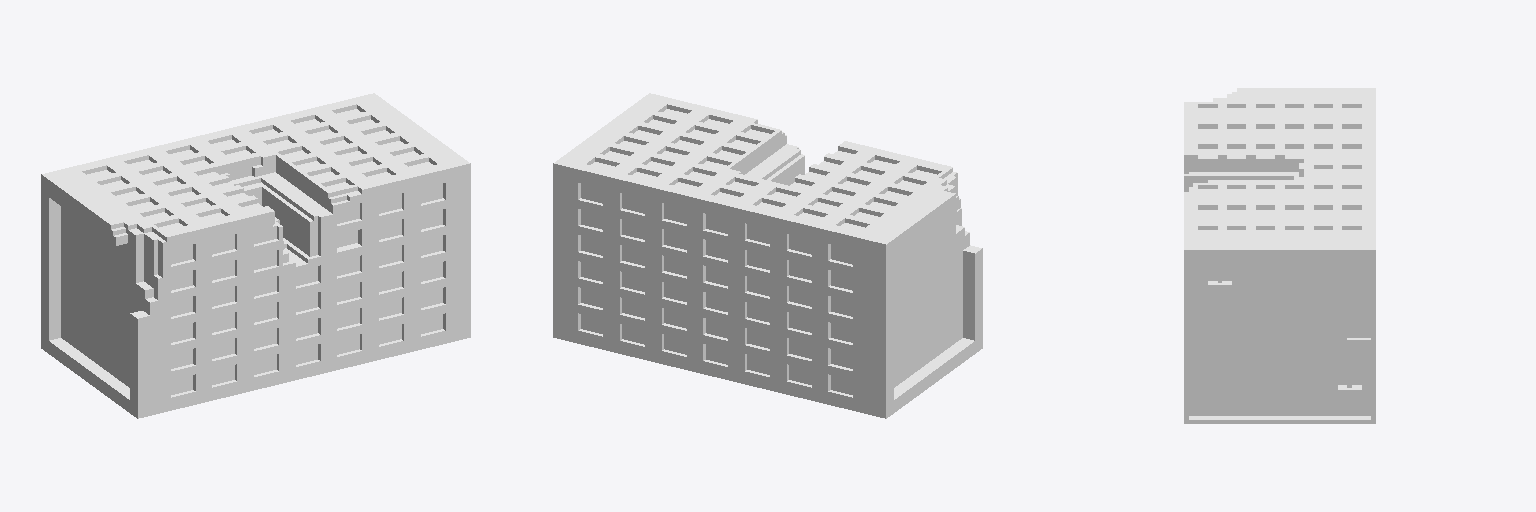
Rendered from Asset-13.obj.
3 renders of one model, left to right at view 1: azimuth 30°, elevation 25°; view 2: azimuth 150°, elevation 25°; view 3: azimuth 270°, elevation 25°, orthographic.
Parts seen in each view (by area): view 1: Asset-13; view 2: Asset-13; view 3: Asset-13.
Boxes of the visible parts, box(x1,y1,x2,y2) form: Asset-13: box(41, 93, 470, 418); Asset-13: box(553, 93, 982, 418); Asset-13: box(1184, 88, 1375, 423).
Bounding box in the file's own units: 80 × 40 × 40.